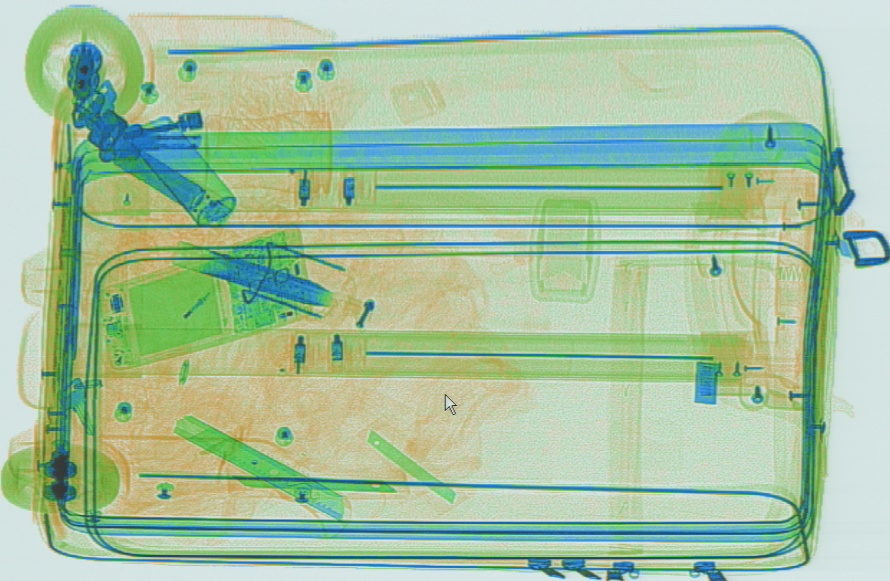knife: (171, 409, 353, 539), (365, 430, 456, 505), (233, 473, 411, 498)
